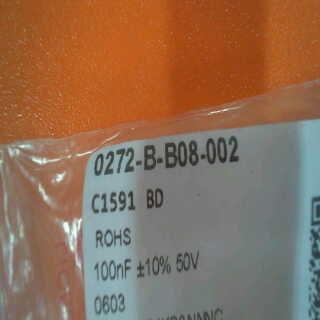100nF: (89, 254, 136, 284)
